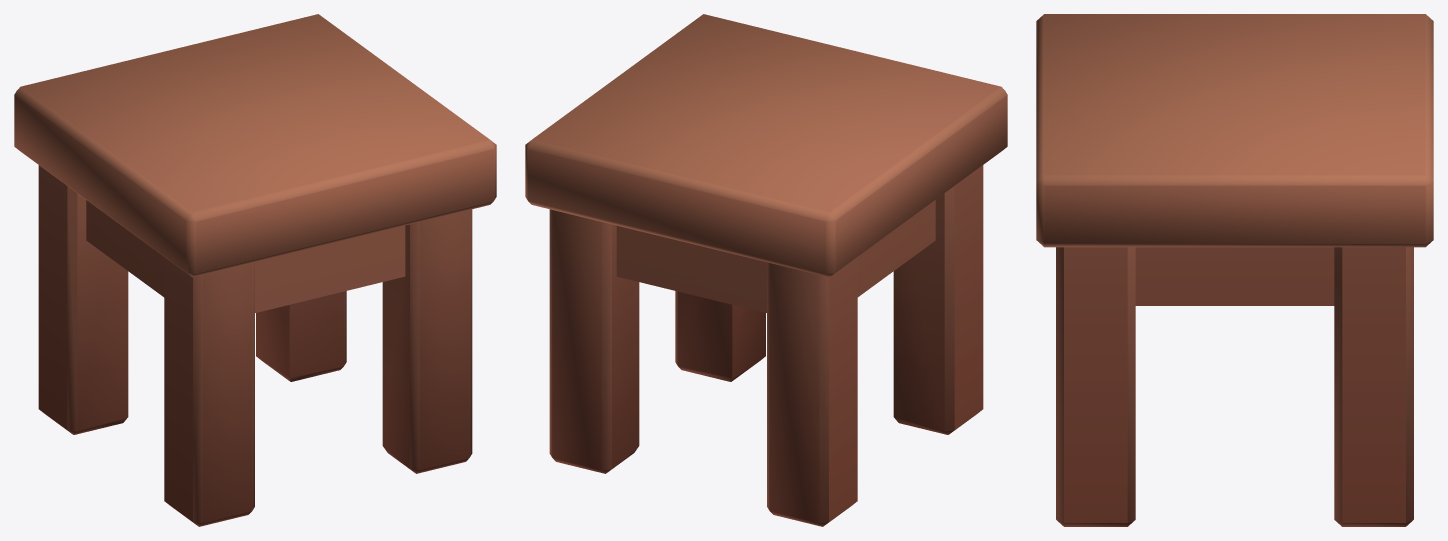
The model's file is kkf.table_small.glb.
The picture shows the model from 3 angles, left to right: view 1: azimuth 30°, elevation 25°; view 2: azimuth 150°, elevation 25°; view 3: azimuth 270°, elevation 25°; orthographic projection. The views are drawn at different scales.
Visible parts, largest first — view 1: table_small; view 2: table_small; view 3: table_small.
Part boxes in pixels (left/top/right/bottom): table_small: left=14, top=14, right=496, bottom=526; table_small: left=525, top=14, right=1007, bottom=526; table_small: left=1036, top=14, right=1433, bottom=526.
Size of the model in its own units: 0.7154 by 0.7154 by 0.7154.
Materials: 1 (1 with a texture image).
